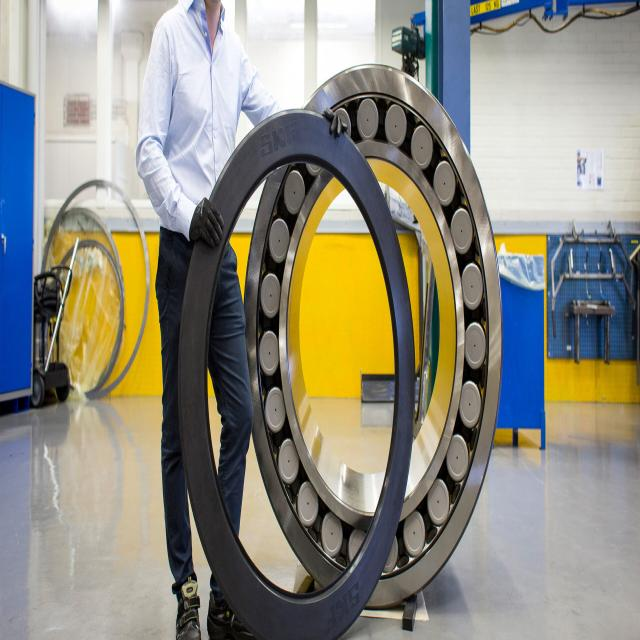Bearing: (246, 66, 504, 612)
